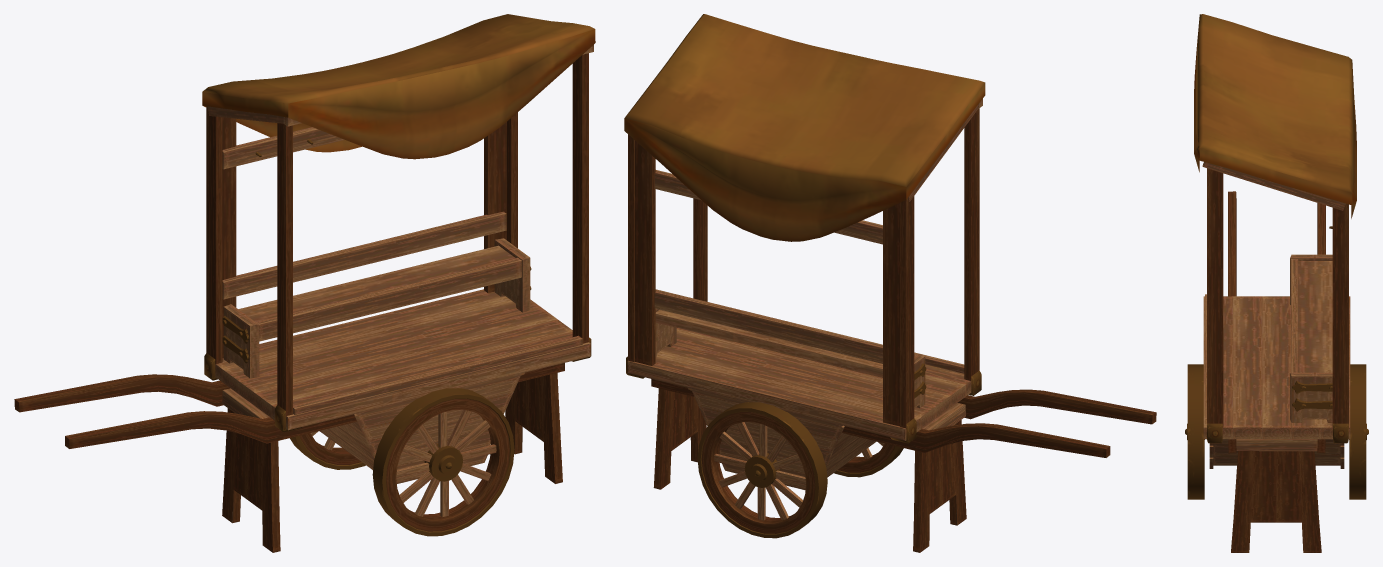
Rendered from quaternius-fantasy-props-stall-cart-empty.glb.
3 renders of one model, left to right at view 1: azimuth 30°, elevation 25°; view 2: azimuth 150°, elevation 25°; view 3: azimuth 270°, elevation 25°, orthographic. The views are drawn at different scales.
Visible parts, largest first — view 1: Stall_Cart_Empty; view 2: Stall_Cart_Empty; view 3: Stall_Cart_Empty.
Boxes of the visible parts, x1=… form: Stall_Cart_Empty: x1=14, y1=14, x2=595, y2=552; Stall_Cart_Empty: x1=624, y1=14, x2=1156, y2=552; Stall_Cart_Empty: x1=1185, y1=14, x2=1368, y2=552.
Bounding box in the file's own units: 2.4 × 2.09 × 0.842.
3 materials, 3 textured.
